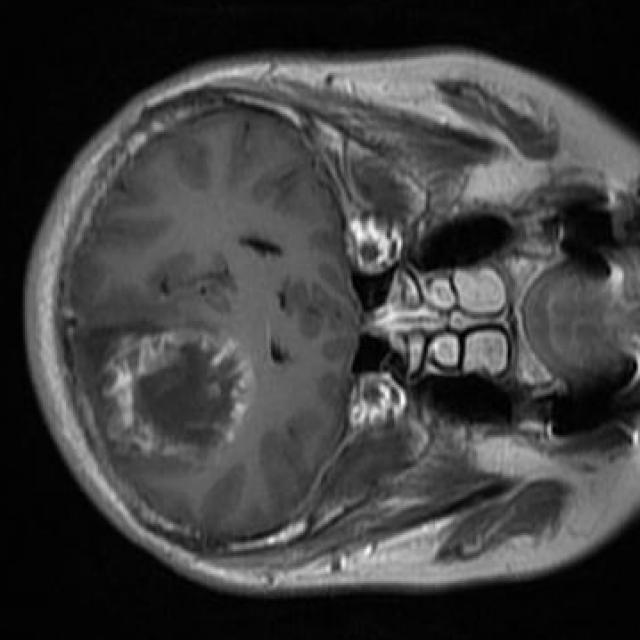glioma: (102, 328, 257, 456)
